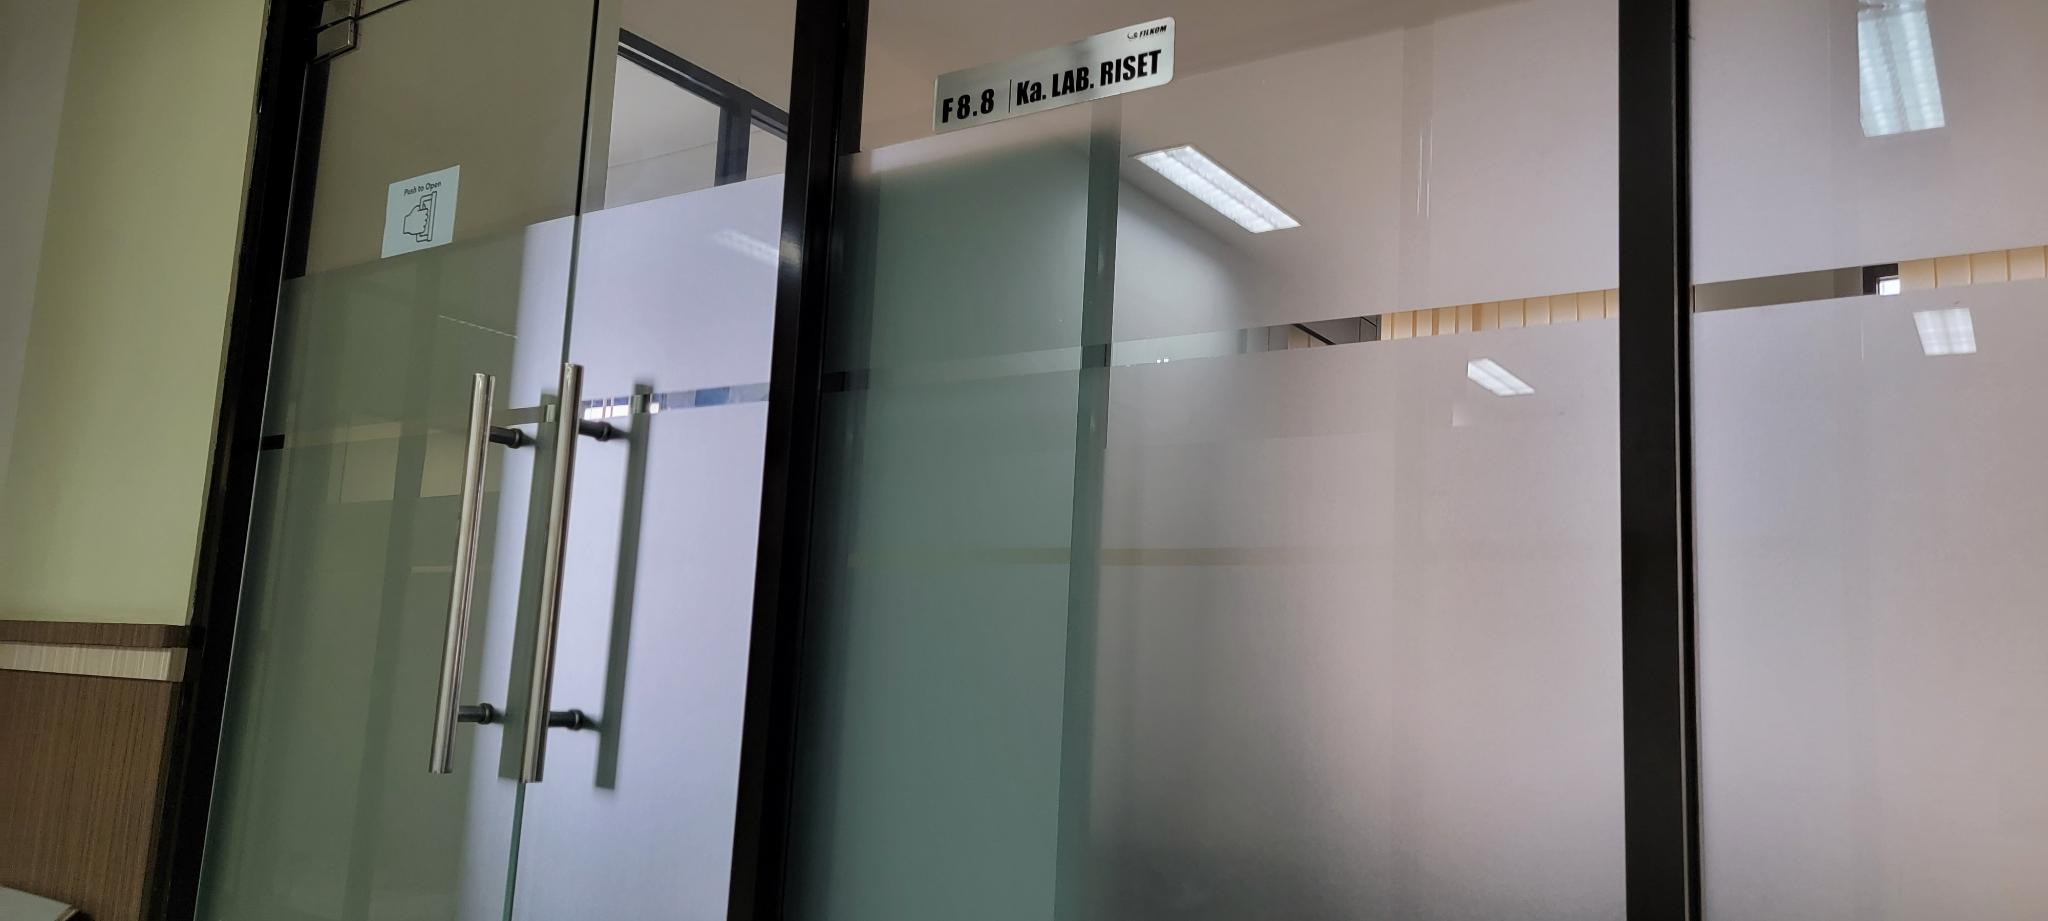plate: (933, 17, 1178, 137)
